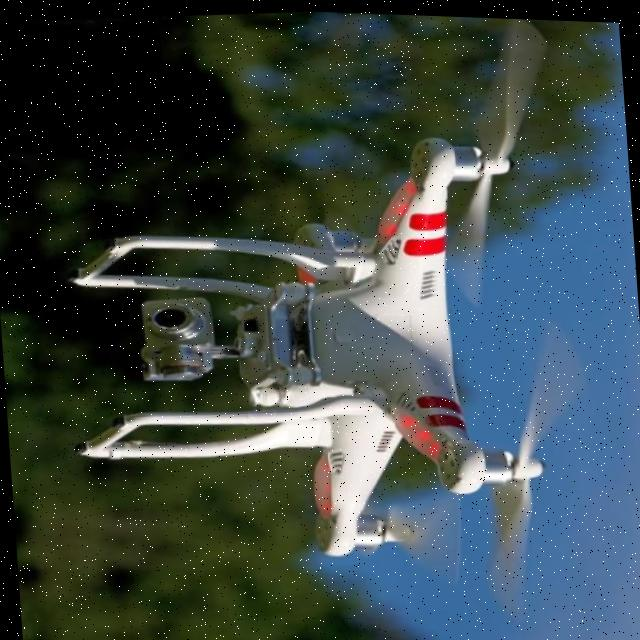drones: (31, 1, 609, 640)
